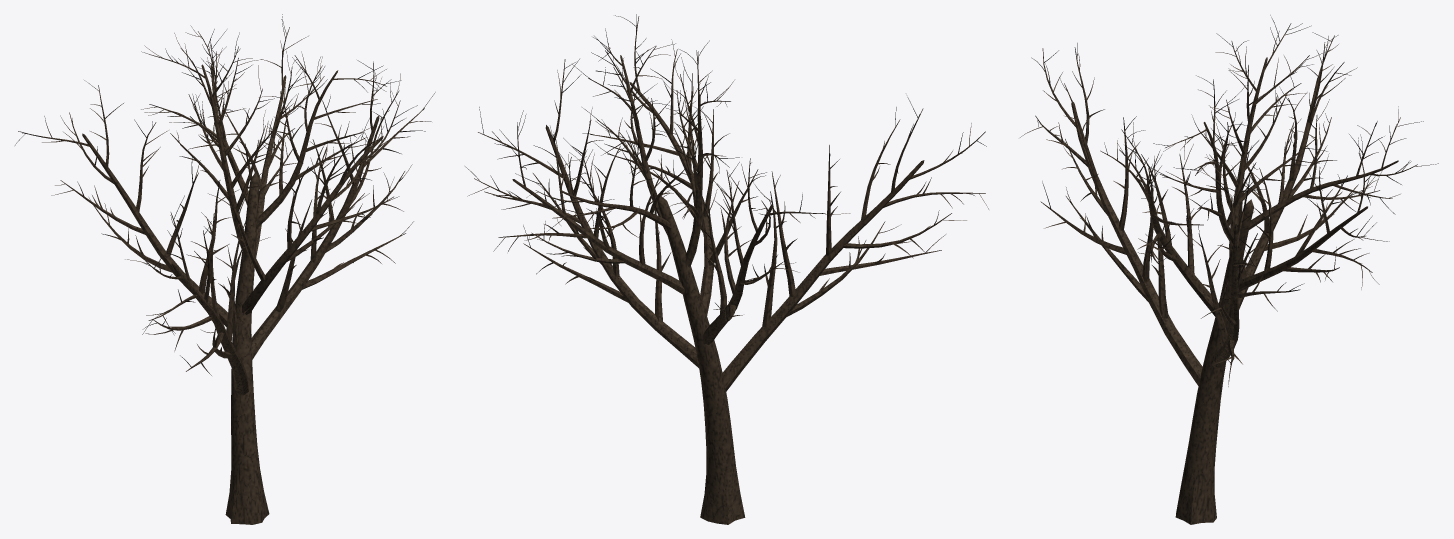
File: SM_Tree_Oak_A_Bark.glb
The picture shows the model from 3 angles, left to right: view 1: azimuth 30°, elevation 25°; view 2: azimuth 150°, elevation 25°; view 3: azimuth 270°, elevation 25°; orthographic projection. The views are drawn at different scales.
Visible parts, largest first — view 1: SM_Tree_Oak_A_Bark; view 2: SM_Tree_Oak_A_Bark; view 3: SM_Tree_Oak_A_Bark.
Part boxes in pixels (x1,y1,x2,y2): SM_Tree_Oak_A_Bark: (15,14,435,524); SM_Tree_Oak_A_Bark: (465,14,988,524); SM_Tree_Oak_A_Bark: (1020,15,1438,524).
Size of the model in its own units: 10.45 by 11.56 by 9.1.
1 material, 1 textured.
